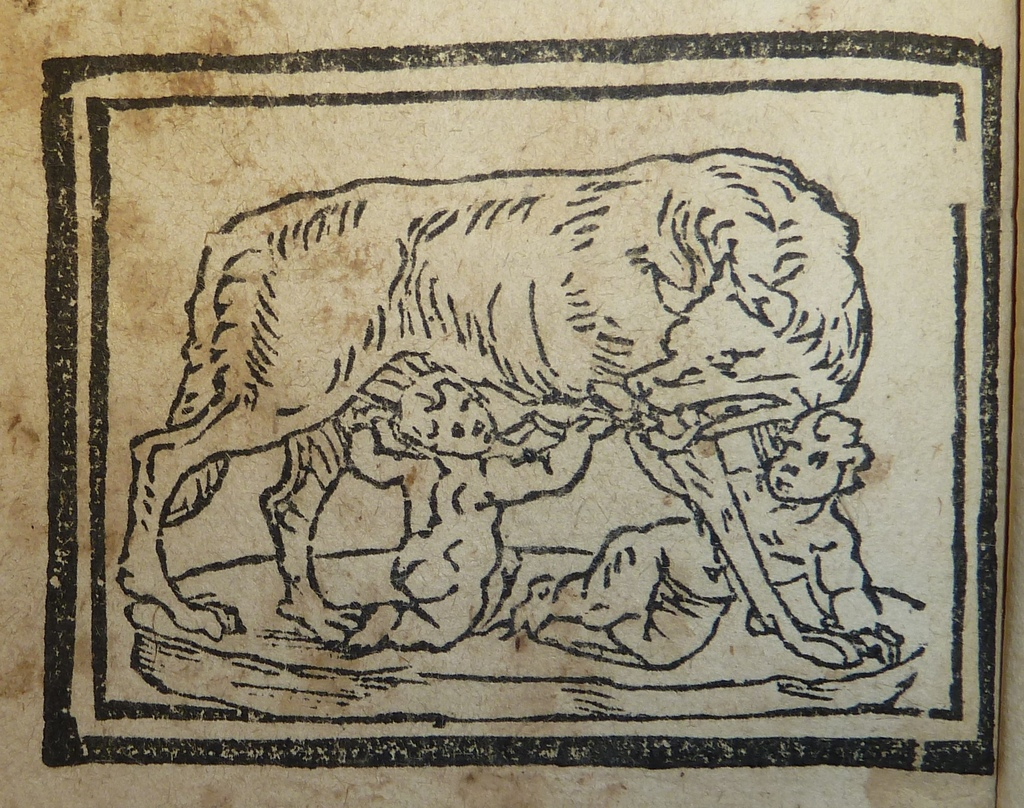Animal: (114, 140, 905, 674)
